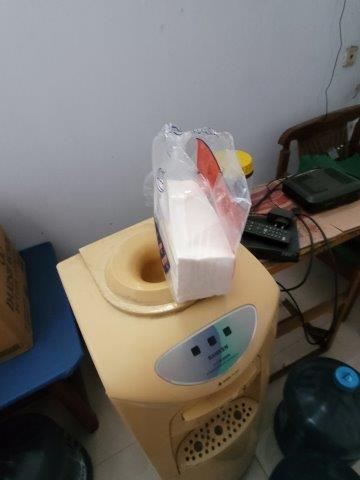plastik: (149, 126, 247, 250)
